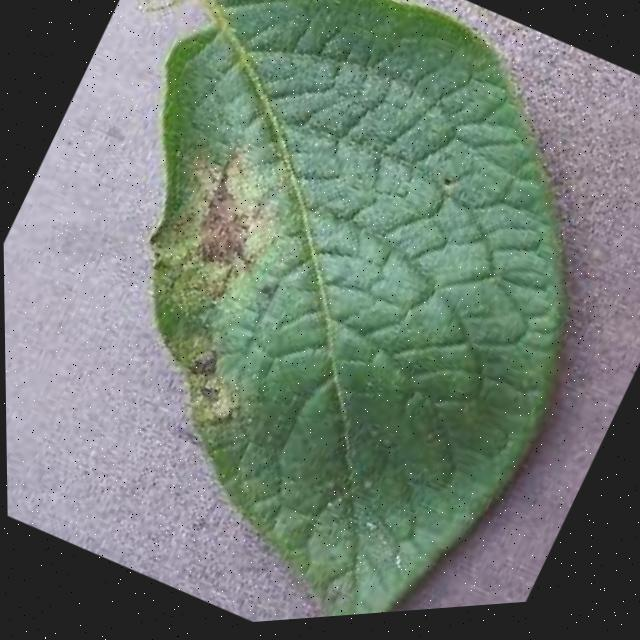Late_blight: (50, 118, 351, 474)
